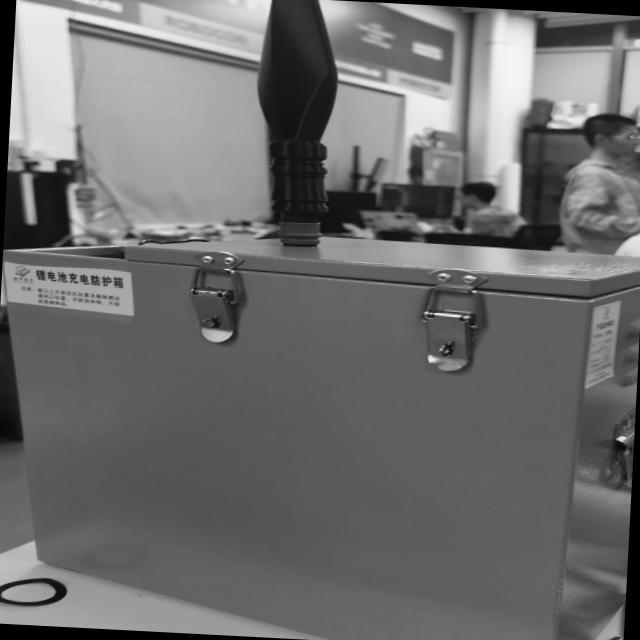base: (278, 220, 324, 248)
